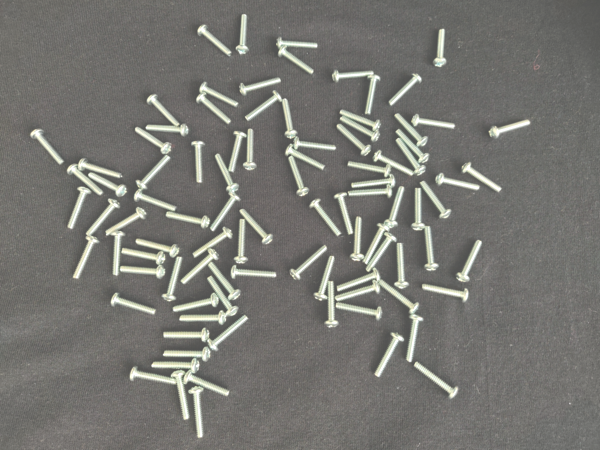longscrew: (414, 364, 459, 398), (369, 335, 405, 377), (69, 235, 103, 278), (291, 243, 328, 280), (462, 160, 501, 195), (212, 316, 248, 352), (191, 227, 231, 259), (137, 154, 174, 188), (210, 195, 244, 232), (183, 372, 230, 398), (309, 200, 342, 237), (206, 278, 239, 315), (377, 281, 417, 311), (30, 132, 65, 166), (183, 249, 218, 283), (418, 182, 450, 219), (237, 212, 274, 244), (375, 150, 413, 181), (127, 363, 176, 387), (455, 242, 484, 282), (66, 163, 100, 197), (88, 198, 120, 234), (133, 124, 171, 154), (104, 208, 146, 235), (390, 76, 426, 107), (314, 256, 338, 302), (64, 189, 93, 226), (213, 156, 241, 194), (147, 94, 180, 126), (162, 256, 184, 304), (398, 129, 429, 163), (369, 234, 396, 273), (196, 93, 231, 123), (280, 45, 315, 75), (207, 264, 238, 297), (398, 139, 425, 176), (200, 27, 231, 59), (395, 113, 427, 144), (339, 122, 369, 155), (171, 373, 192, 420), (490, 118, 532, 141), (413, 111, 455, 134), (424, 281, 470, 302), (341, 114, 378, 140), (287, 155, 311, 195), (333, 194, 357, 234), (200, 82, 239, 106), (137, 235, 179, 257), (135, 191, 177, 213), (336, 270, 380, 291), (112, 295, 158, 315), (363, 225, 387, 263), (246, 92, 281, 118), (90, 171, 126, 196), (336, 283, 381, 303), (341, 106, 380, 129), (385, 187, 406, 229), (165, 206, 209, 226), (288, 145, 324, 169), (80, 159, 122, 179), (323, 283, 341, 329), (236, 10, 254, 56), (240, 75, 281, 95), (437, 171, 480, 190), (423, 227, 442, 270), (406, 316, 423, 363), (352, 216, 369, 263), (282, 95, 300, 139), (409, 188, 427, 232), (336, 304, 382, 321), (348, 186, 394, 203), (346, 160, 392, 177), (227, 131, 245, 174), (235, 219, 253, 262), (365, 75, 383, 118), (393, 244, 411, 287), (351, 175, 396, 192), (174, 295, 220, 311), (275, 35, 322, 50), (190, 387, 203, 440), (292, 137, 336, 152), (232, 265, 279, 279), (122, 248, 165, 263), (192, 141, 205, 186), (331, 70, 379, 82), (119, 267, 165, 279), (166, 348, 208, 361), (246, 129, 258, 174), (145, 123, 188, 135), (433, 26, 445, 68), (163, 330, 213, 340), (178, 314, 228, 324), (148, 360, 197, 370), (112, 230, 122, 279)
